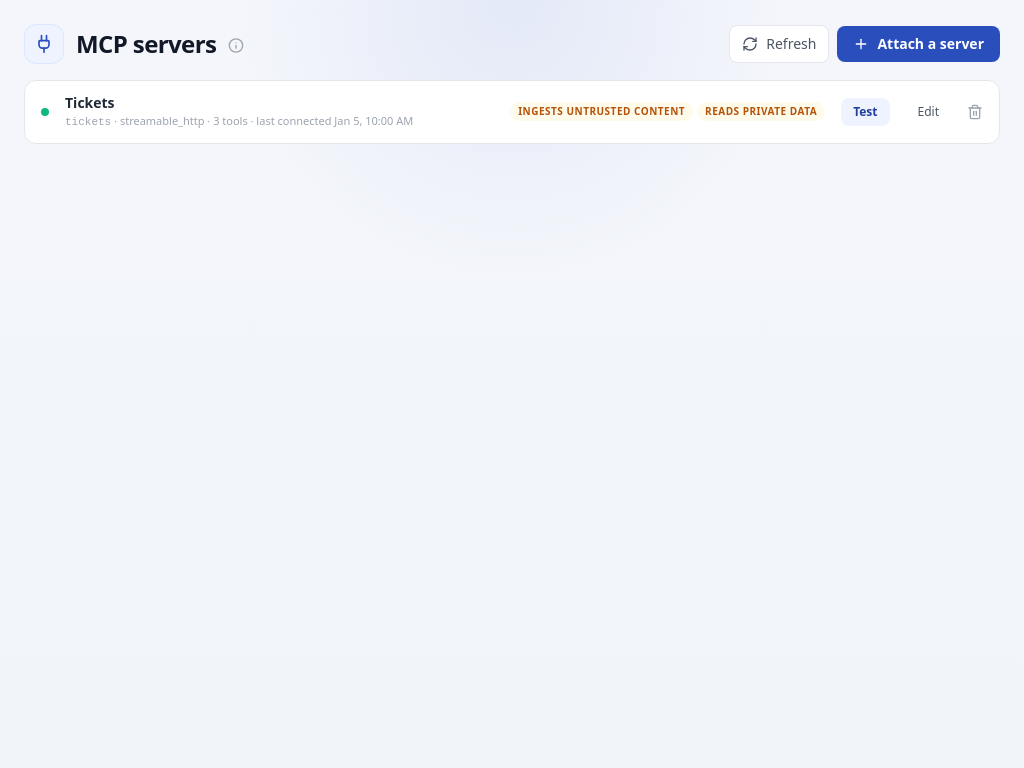
Scenario: Mcp — a configured server › reports a failed test as a result, not as a broken page
Expected: the text "Tickets" is shown, [65,93,115,112]
Click the button "Test" at (865, 112), box [841,98,890,126]
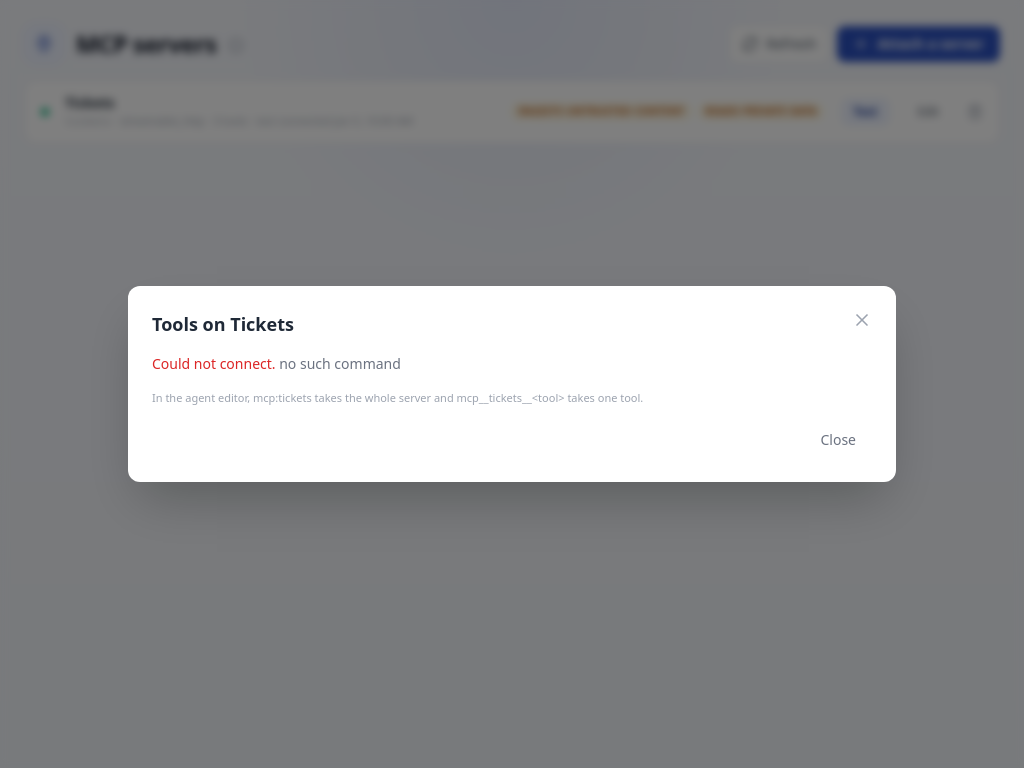
Result: the text "Could not connect. no such command" is shown at [152,354,401,373]
Result: the text "no such command" is shown at [279,354,401,373]
